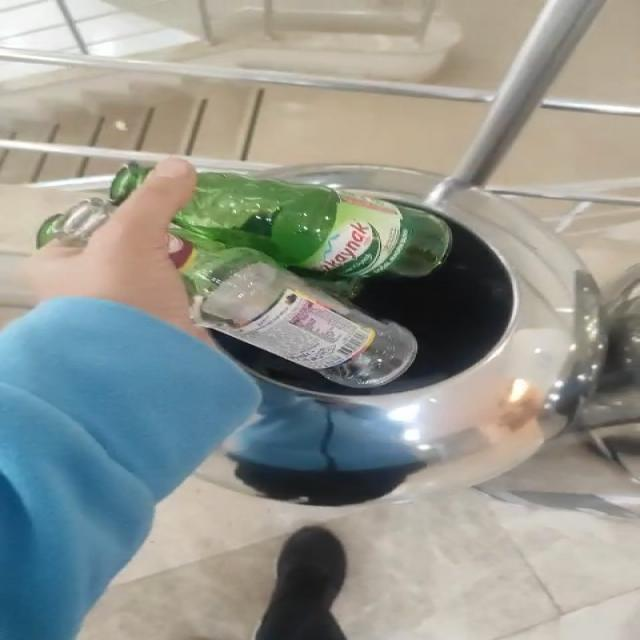Glass: (169, 173, 452, 388), (37, 164, 149, 247)
